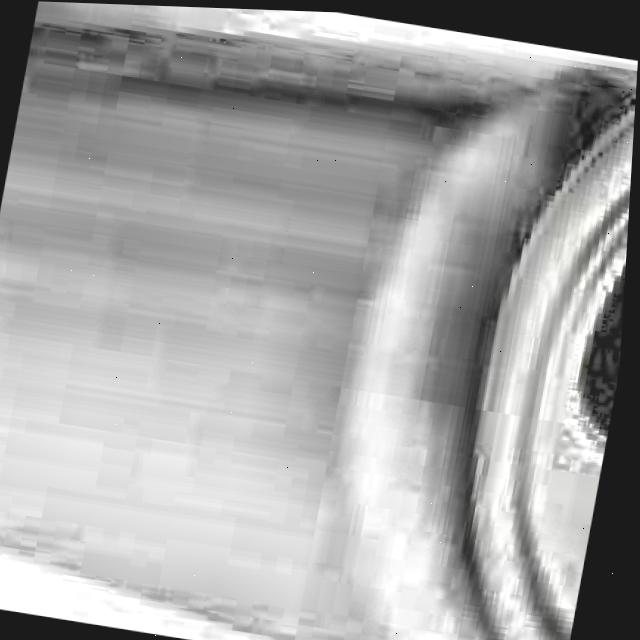metal: (0, 12, 638, 640)
